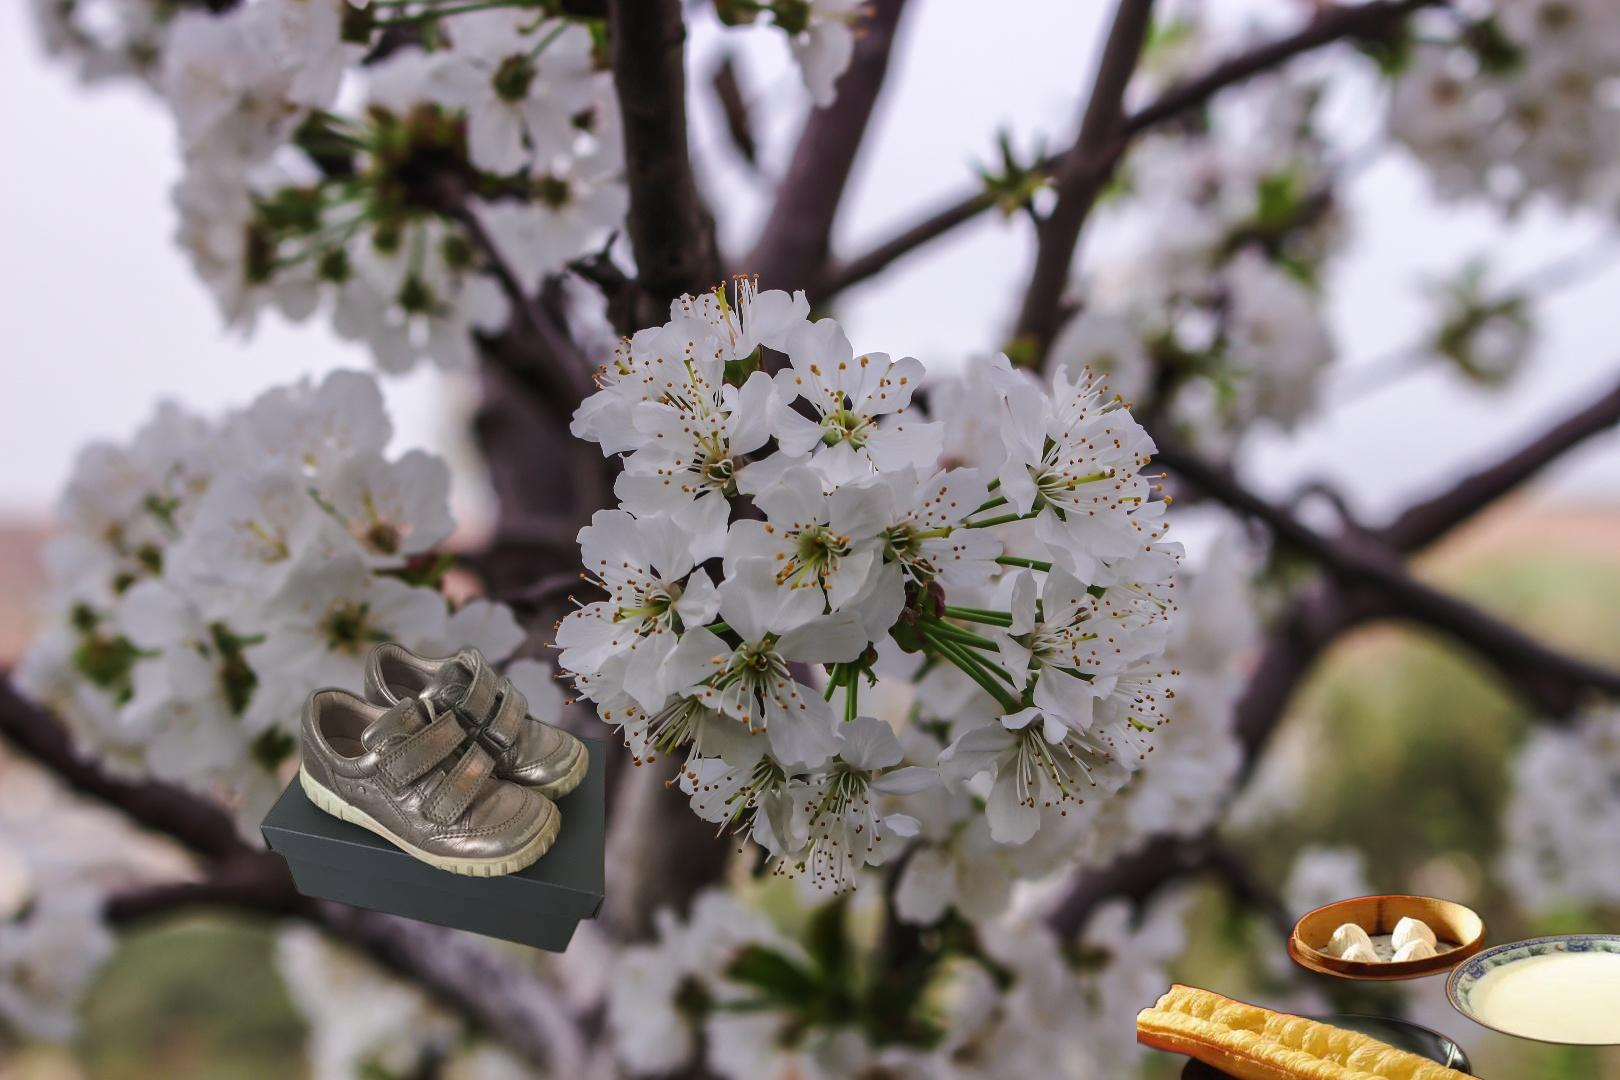biological: (1137, 892, 1620, 1080)
shoes: (257, 636, 610, 958)
